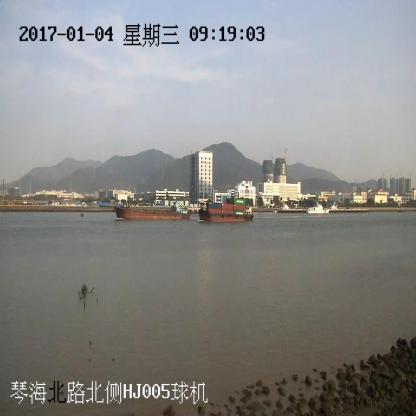Container Ship: (200, 197, 252, 221)
